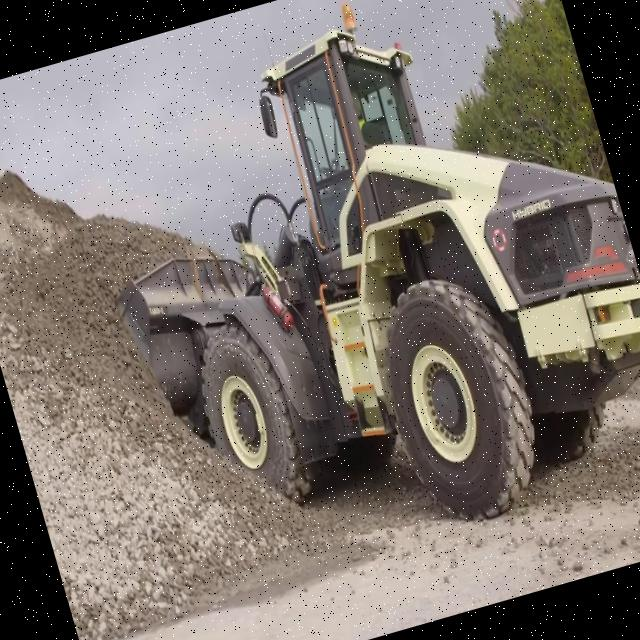Loader: (50, 0, 640, 602)
